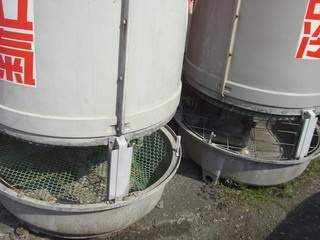water_tower: (1, 1, 188, 239), (175, 1, 320, 184)
